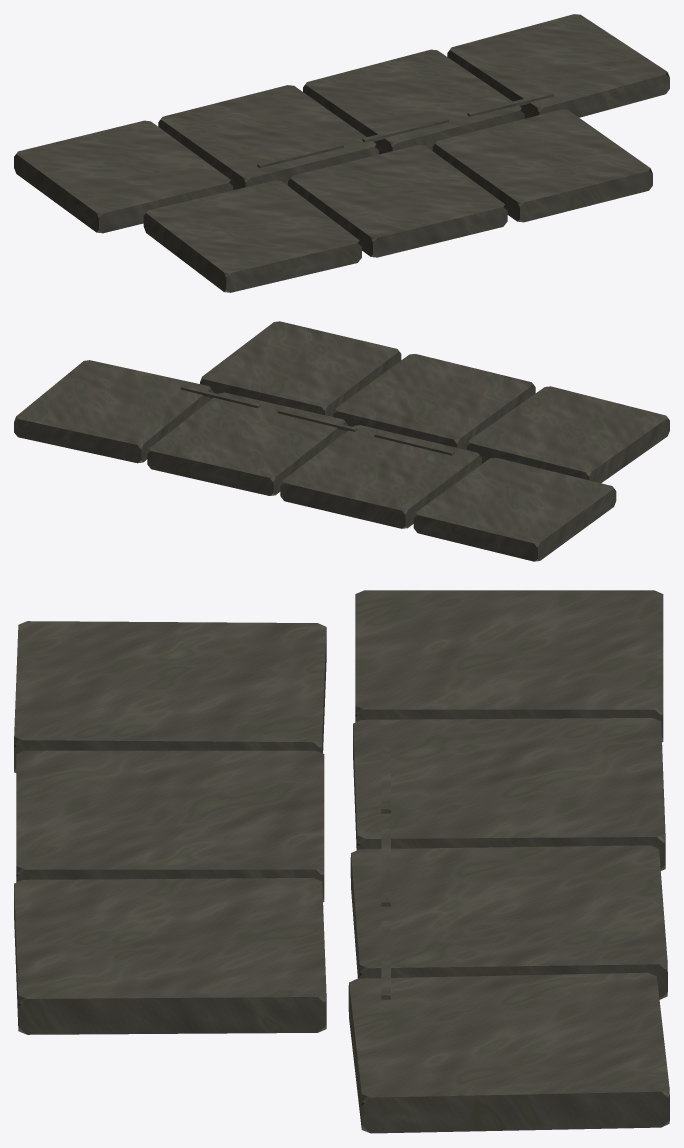
File: cataclysm_upland_paving-lod0.gltf
The picture shows the model from 3 angles, top to bottom: view 1: azimuth 30°, elevation 25°; view 2: azimuth 150°, elevation 25°; view 3: azimuth 270°, elevation 25°; orthographic projection. The views are drawn at different scales.
Visible parts, largest first — view 1: cataclysm_upland_paving LOD0 cataclysm_upland_paving; view 2: cataclysm_upland_paving LOD0 cataclysm_upland_paving; view 3: cataclysm_upland_paving LOD0 cataclysm_upland_paving.
Boxes of the visible parts, x1=… form: cataclysm_upland_paving LOD0 cataclysm_upland_paving: x1=14, y1=14, x2=669, y2=292; cataclysm_upland_paving LOD0 cataclysm_upland_paving: x1=14, y1=321, x2=669, y2=561; cataclysm_upland_paving LOD0 cataclysm_upland_paving: x1=14, y1=590, x2=669, y2=1133.
Size of the model in its own units: 2.73 by 0.101 by 1.49.
1 material, 1 textured.
